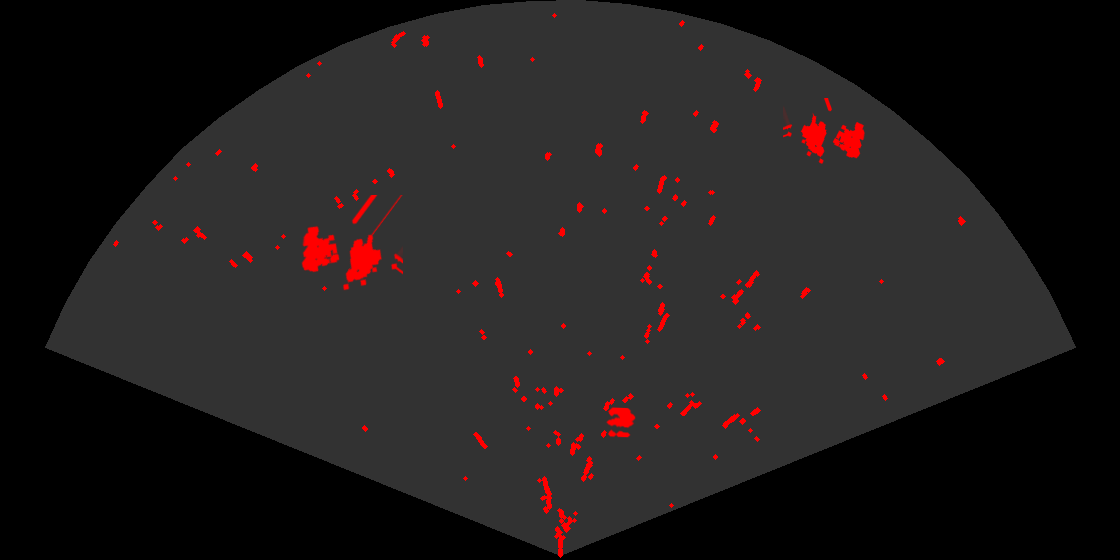ball: (605, 406, 637, 439)
cage: (300, 195, 403, 292), (783, 98, 866, 166)
